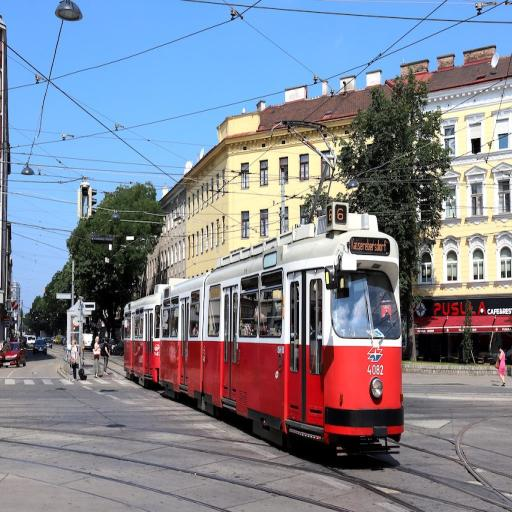E2-Tram: (121, 197, 406, 457)
